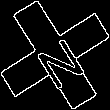N_NW: (24, 23, 86, 87)
